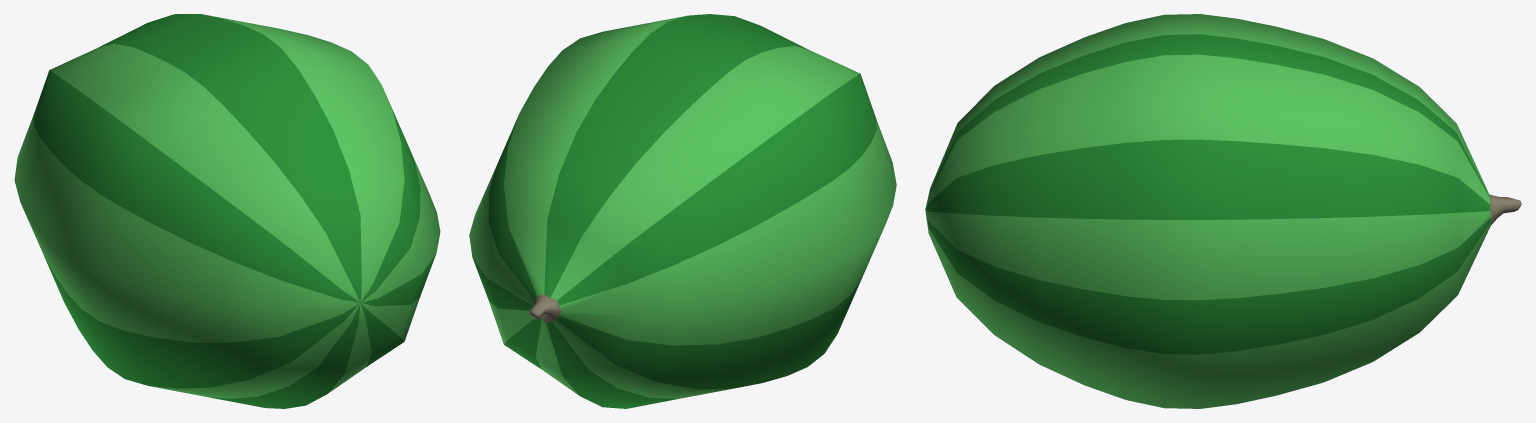
Rendered from Watermelon_Three.fbx.
3 renders of one model, left to right at view 1: azimuth 30°, elevation 25°; view 2: azimuth 150°, elevation 25°; view 3: azimuth 270°, elevation 25°, orthographic. The views are drawn at different scales.
Parts seen in each view (by area): view 1: Watermelon_Three; view 2: Watermelon_Three; view 3: Watermelon_Three.
Boxes of the visible parts, x1,y1,x2,y2 form: Watermelon_Three: (14,14,440,408); Watermelon_Three: (469,14,896,408); Watermelon_Three: (925,14,1521,408).
Bounding box in the file's own units: 71.43 × 68.46 × 101.
